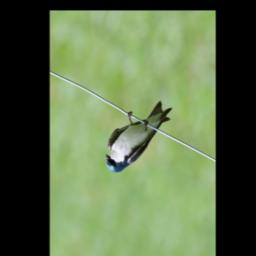Swallow: (101, 82, 175, 192)
